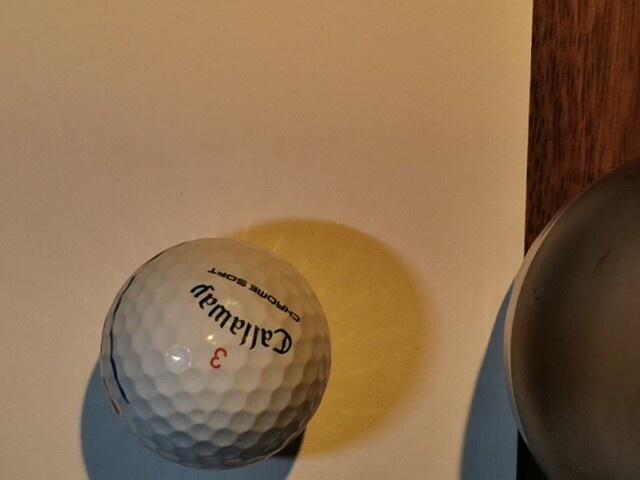Ball: (100, 238, 332, 471)
Callaway: (190, 284, 293, 355)
